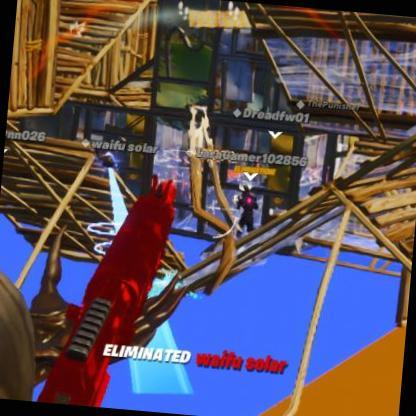Person: (235, 188, 255, 240)
